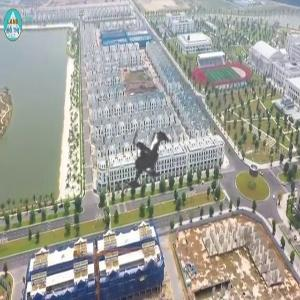drone: (90, 98, 217, 225)
